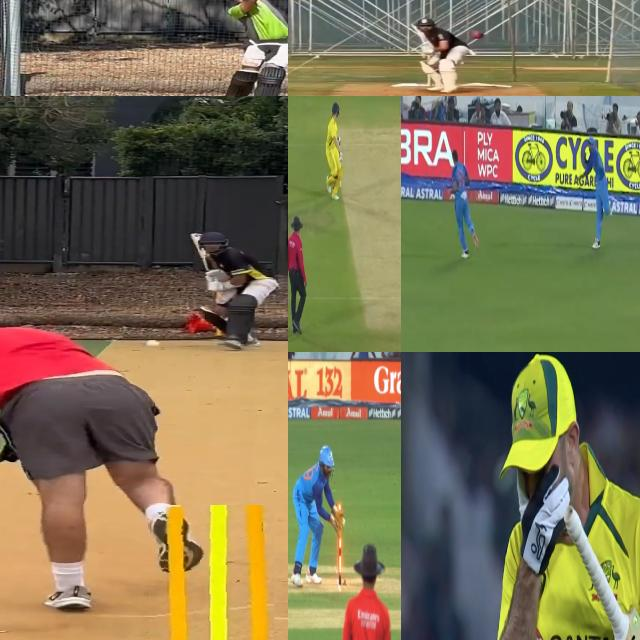Cricket ball: (468, 30, 485, 40), (146, 339, 163, 348)
Stumps: (148, 505, 274, 640)
